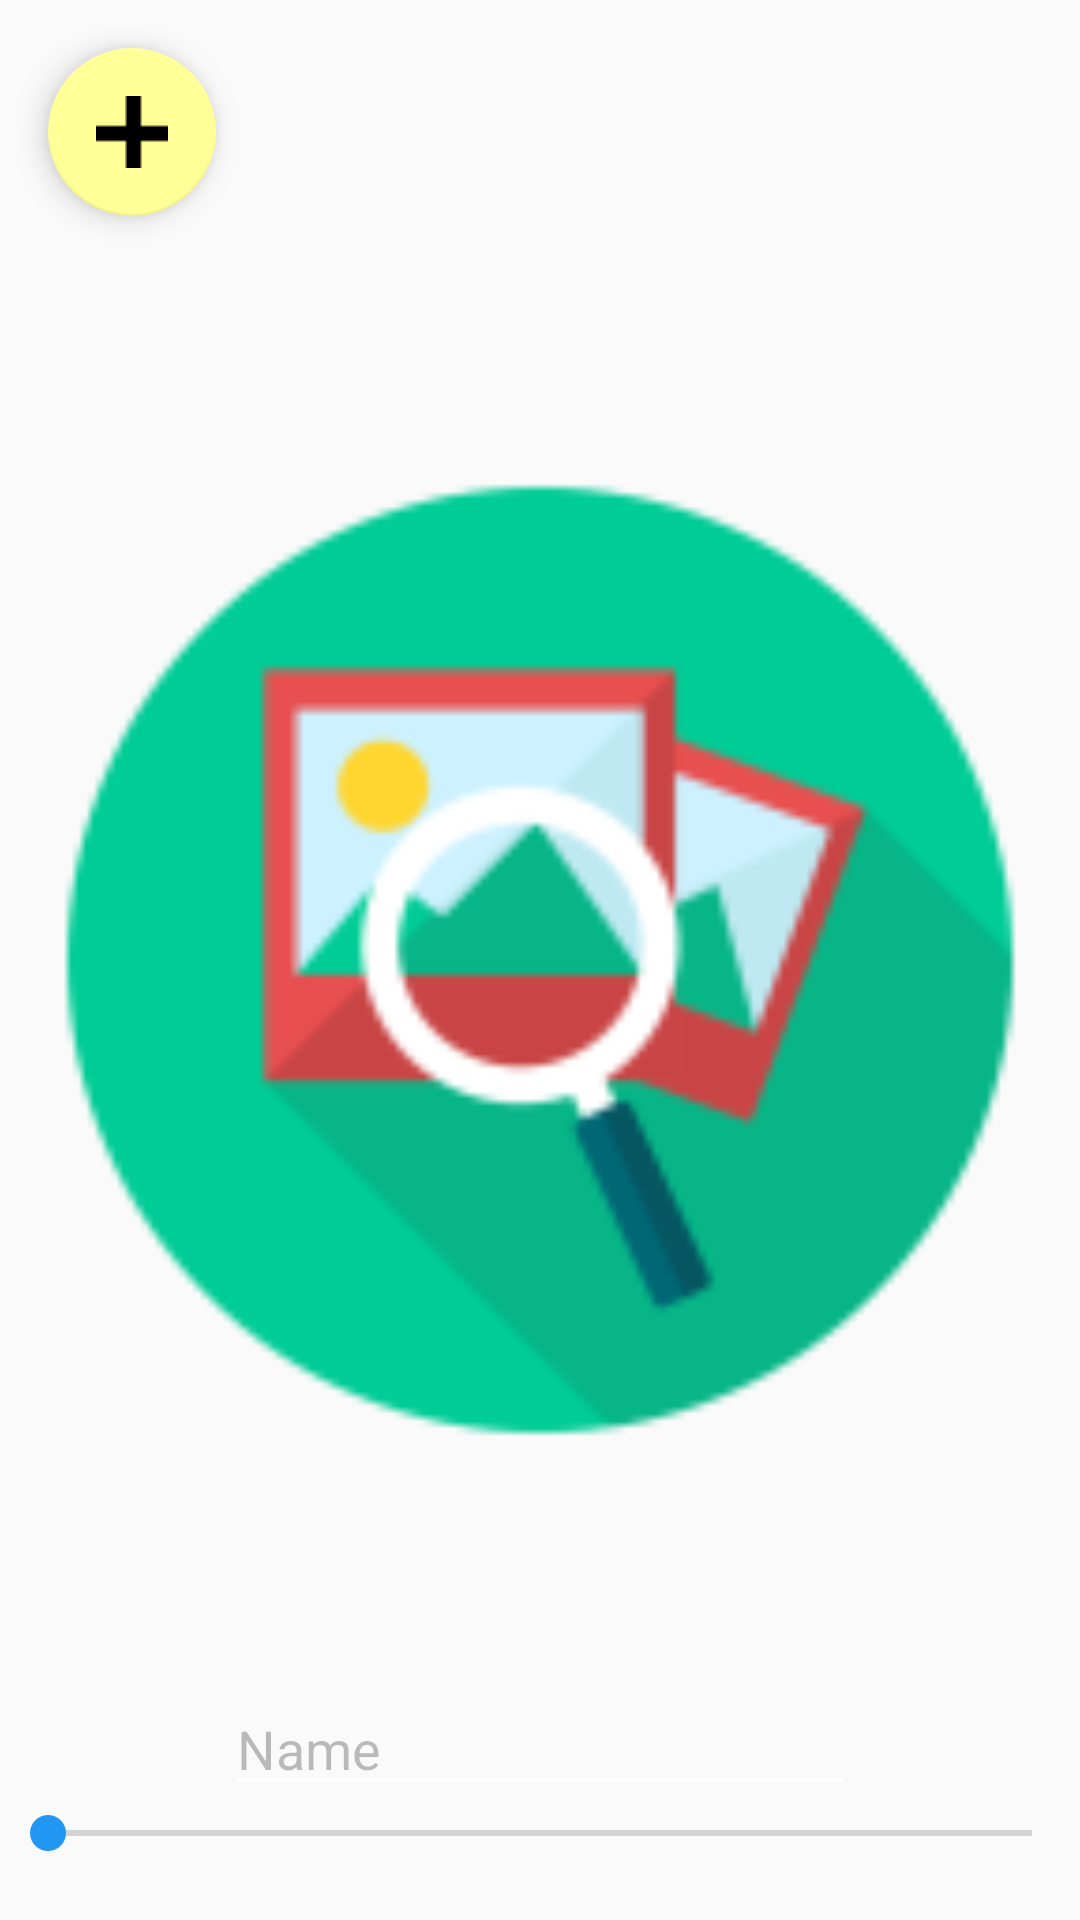

Where icons sit on this 1080w x 1920h app screen, as (x1, y1, x2, y2):
plus: (48, 48, 216, 216)
